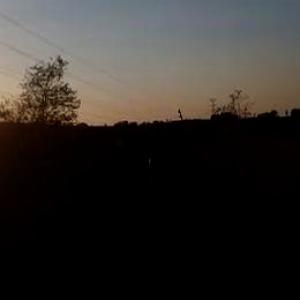follow: (128, 150, 186, 299)
